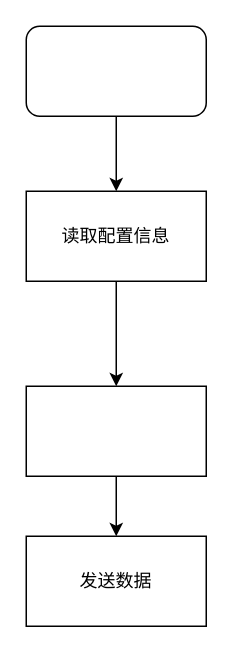
Image size: 233x653. Some labels were removed from this diagram. Here are the shapes that lost their labels. From the top down, the centre of each, then its label:
[115,70]: 有效数据帧
[115,430]: 根据配置信息创建socket链接
